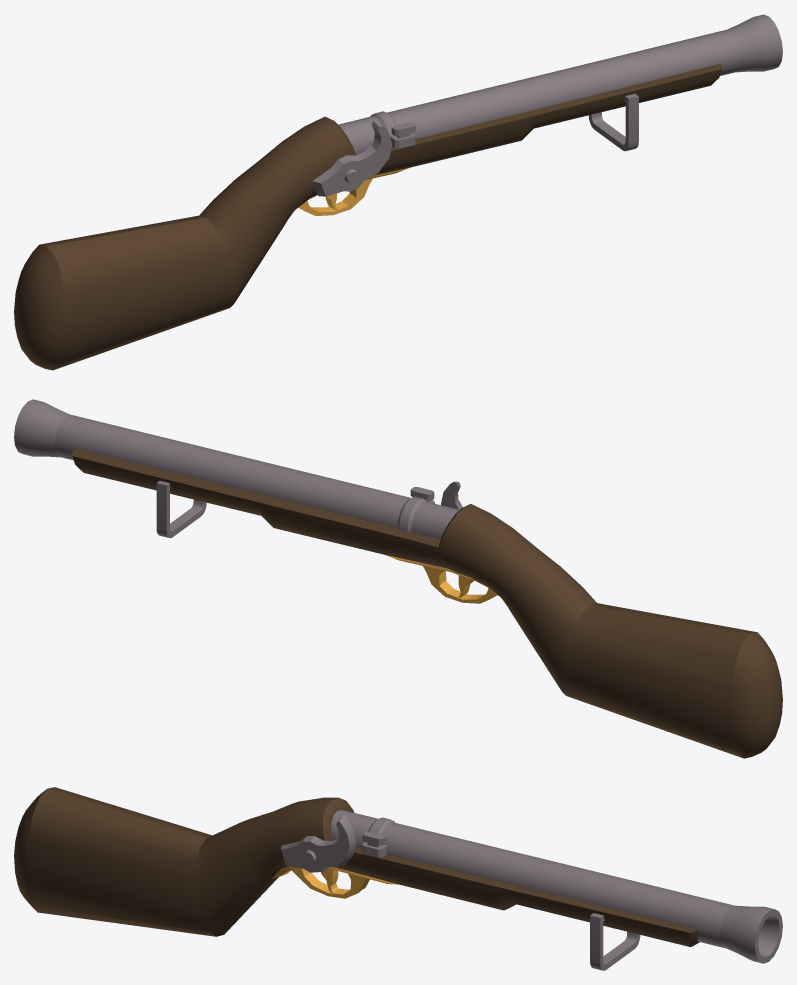
The model's file is quaternius-pirate-weapon-rifle.glb.
The picture shows the model from 3 angles, top to bottom: view 1: azimuth 30°, elevation 25°; view 2: azimuth 150°, elevation 25°; view 3: azimuth 330°, elevation 25°; orthographic projection.
Visible parts, largest first — view 1: Weapon_Rifle; view 2: Weapon_Rifle; view 3: Weapon_Rifle.
Part boxes in pixels (bbox=[...]): Weapon_Rifle: bbox=[14, 14, 782, 370]; Weapon_Rifle: bbox=[14, 399, 782, 758]; Weapon_Rifle: bbox=[14, 787, 782, 970].
Size of the model in its own units: 2.9 by 0.6856 by 0.2849.
Materials: 1 (1 with a texture image).
